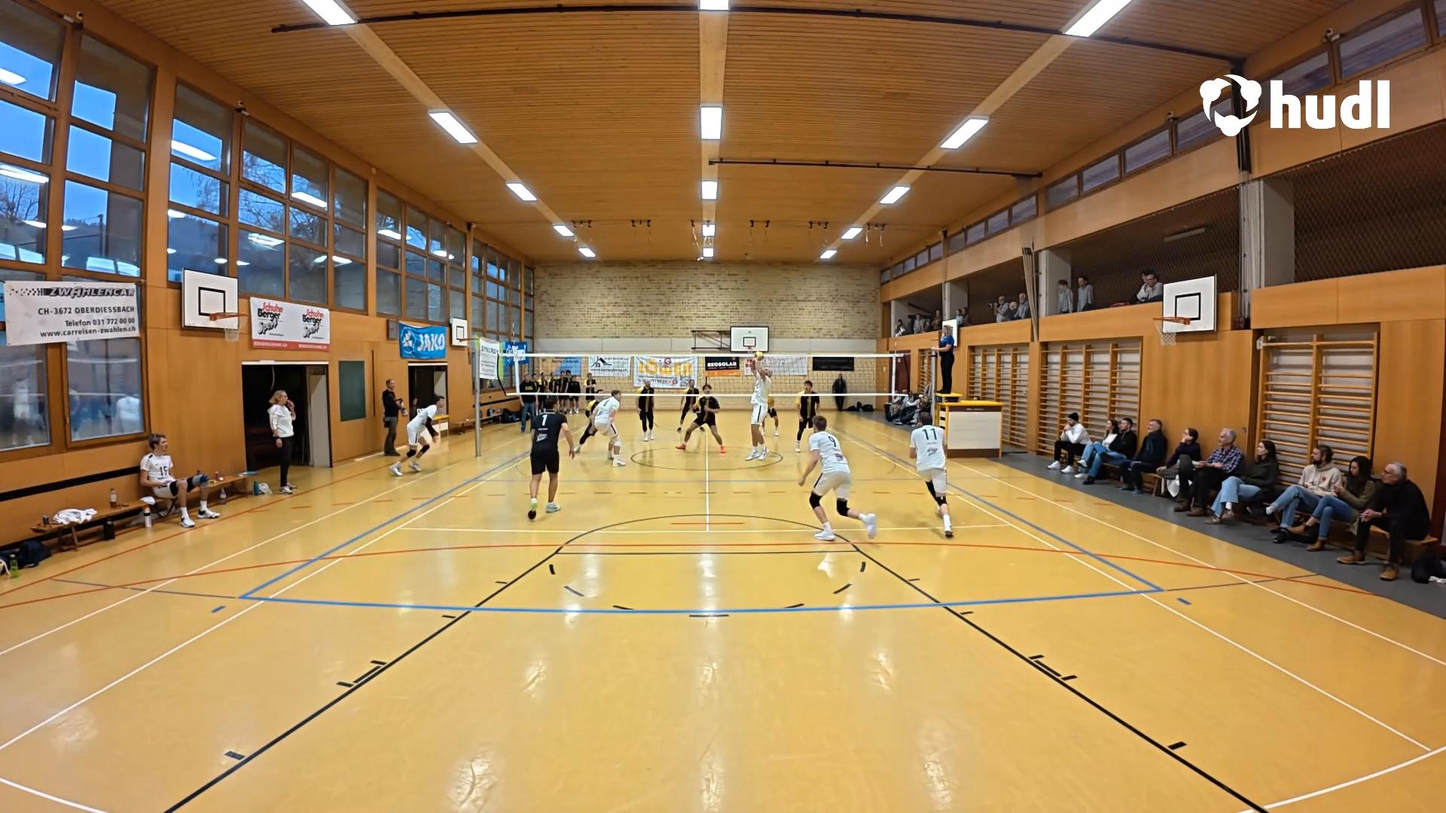Player: (804, 418, 879, 544), (523, 388, 569, 518), (911, 405, 953, 536), (389, 393, 447, 478), (678, 382, 721, 452), (591, 385, 626, 467), (628, 378, 659, 460), (574, 385, 606, 457), (793, 381, 820, 448), (673, 376, 699, 426)
Set: (738, 356, 781, 465)
ball: (752, 350, 766, 362)
